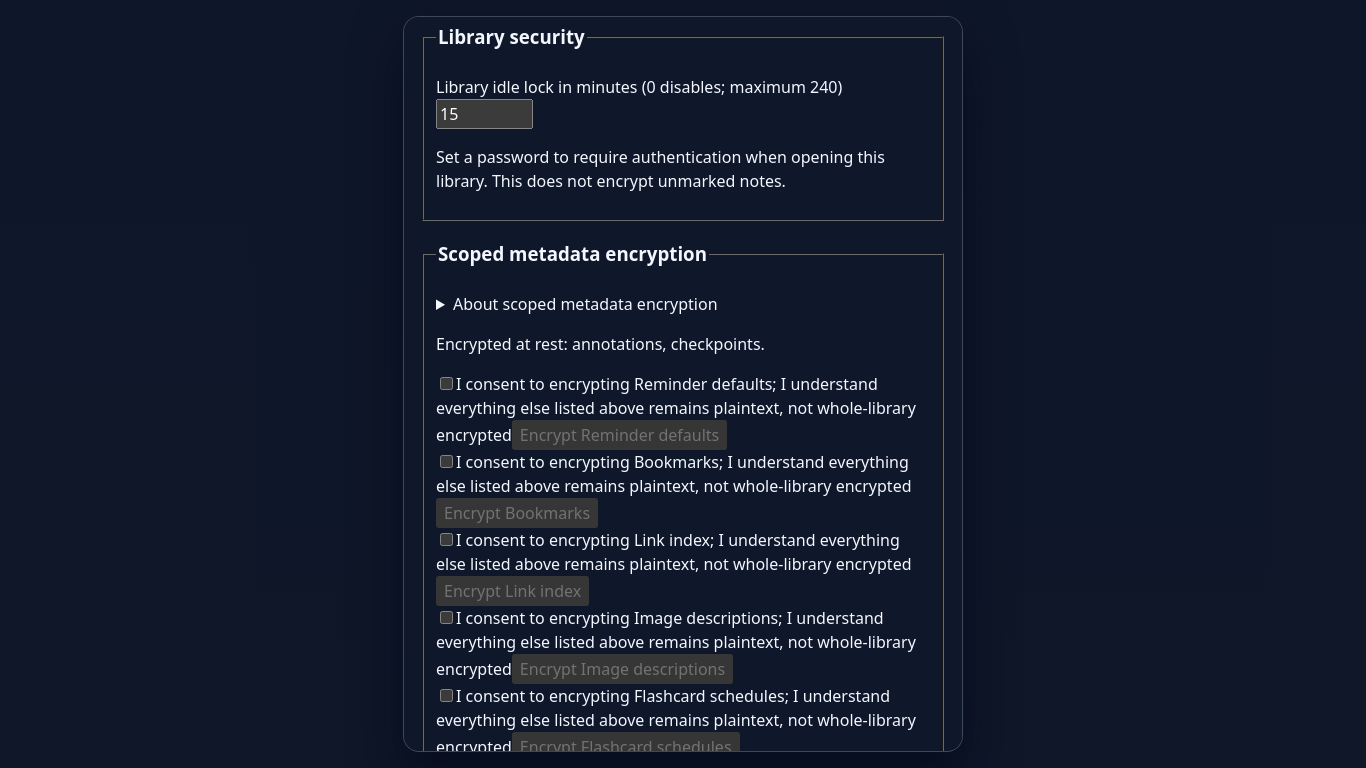
it: scoped metadata encryption consent › extends protection to reminder defaults only after per-store consent
This screenshot has width=1366, height=768.
(page scrolled)
Expected: the button "Encrypt Reminder defaults" is disabled, [512,420,727,450]
Expected: the button "Encrypt Bookmarks" is shown, [436,498,598,528]
Click the checkbox labelled "I consent to encrypting Reminder defaults" at (446, 384), box [440,377,453,390]
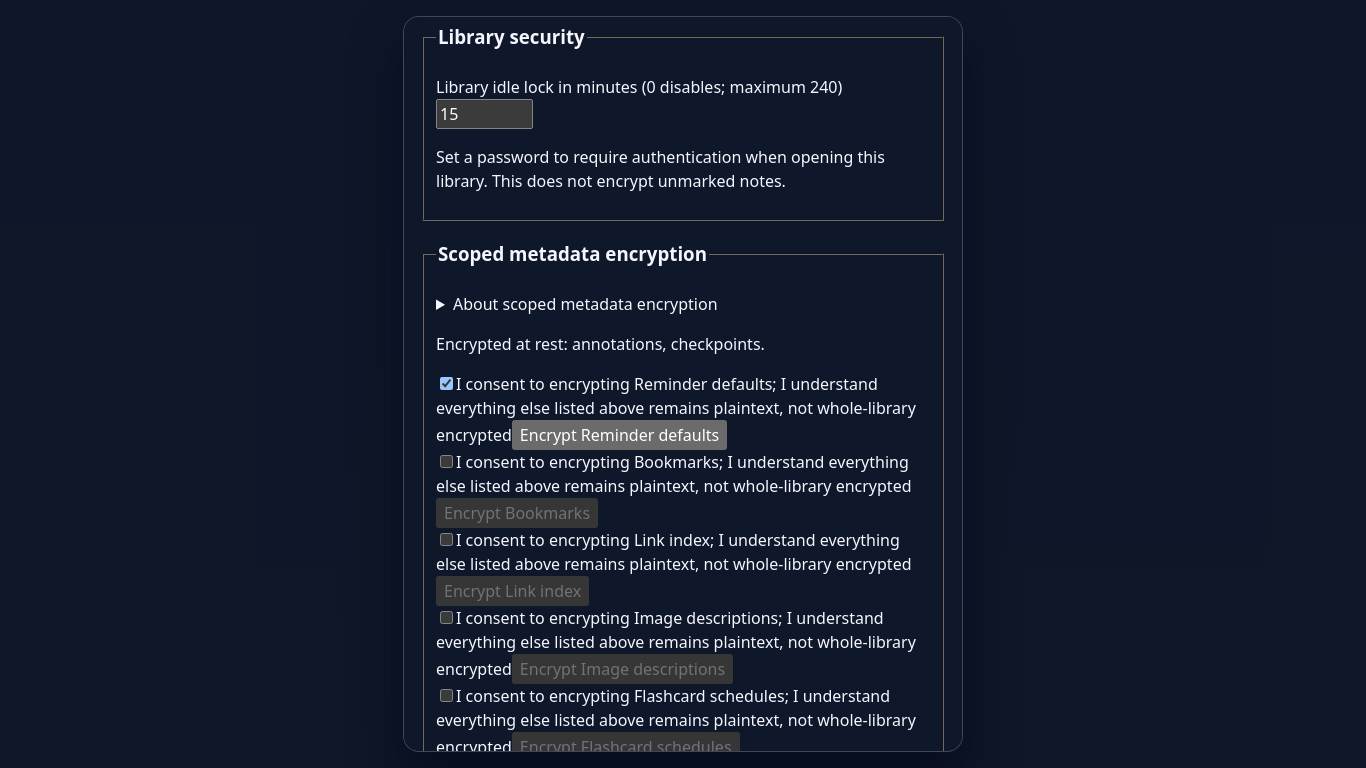
Result: the button "Encrypt Reminder defaults" is enabled
Click the button "Encrypt Reminder defaults" at (620, 435), box [512,420,727,450]
(page scrolled)
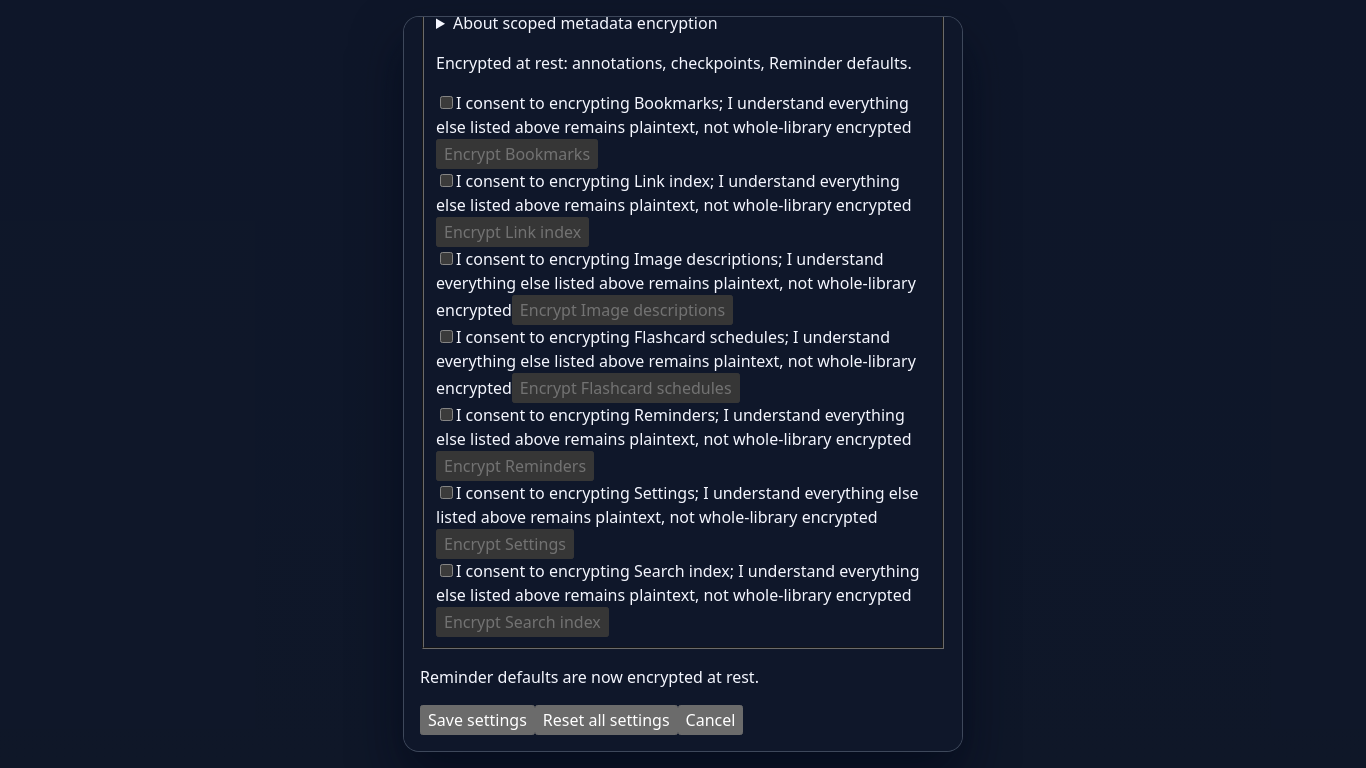
Result: the text "Reminder defaults are now encrypted at rest." is shown at [420,666,759,688]
Result: the button "Encrypt Reminder defaults" is gone
